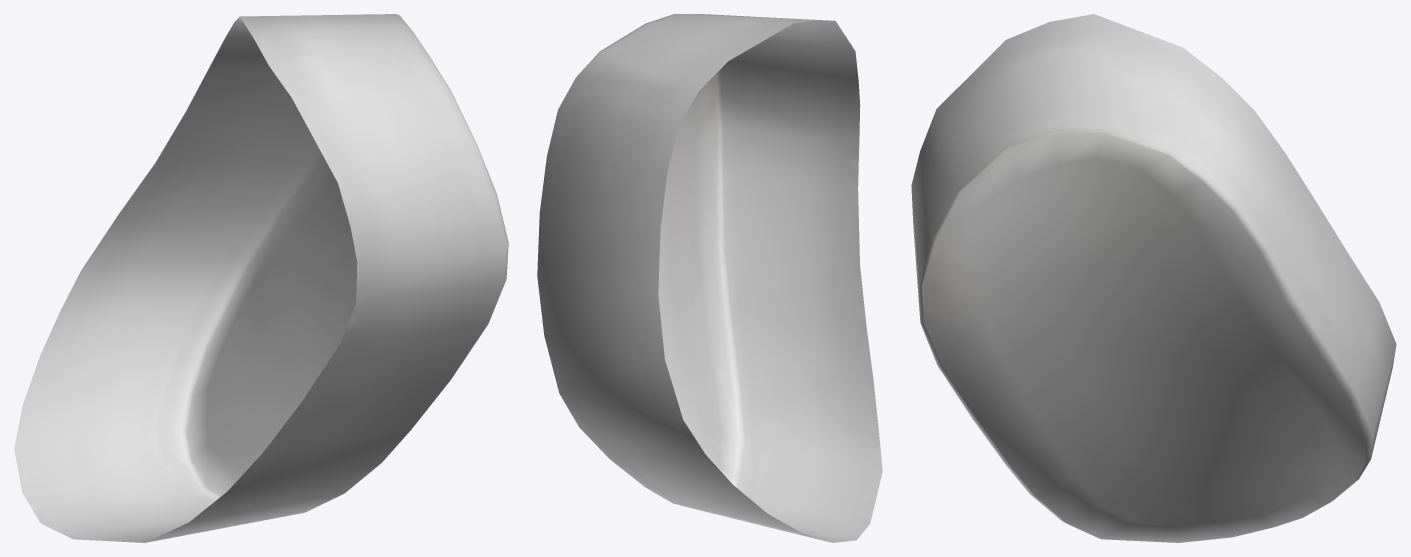
The picture shows the model from 3 angles, left to right: view 1: azimuth 30°, elevation 25°; view 2: azimuth 150°, elevation 25°; view 3: azimuth 270°, elevation 25°; orthographic projection. The views are drawn at different scales.
Size of the model in its own units: 0.0146 by 0.0208 by 0.0177.
Materials: 1 (1 with a texture image).
